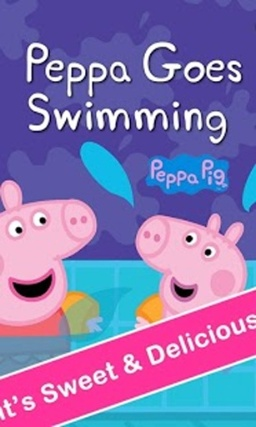Peppa: (1, 177, 97, 337)
